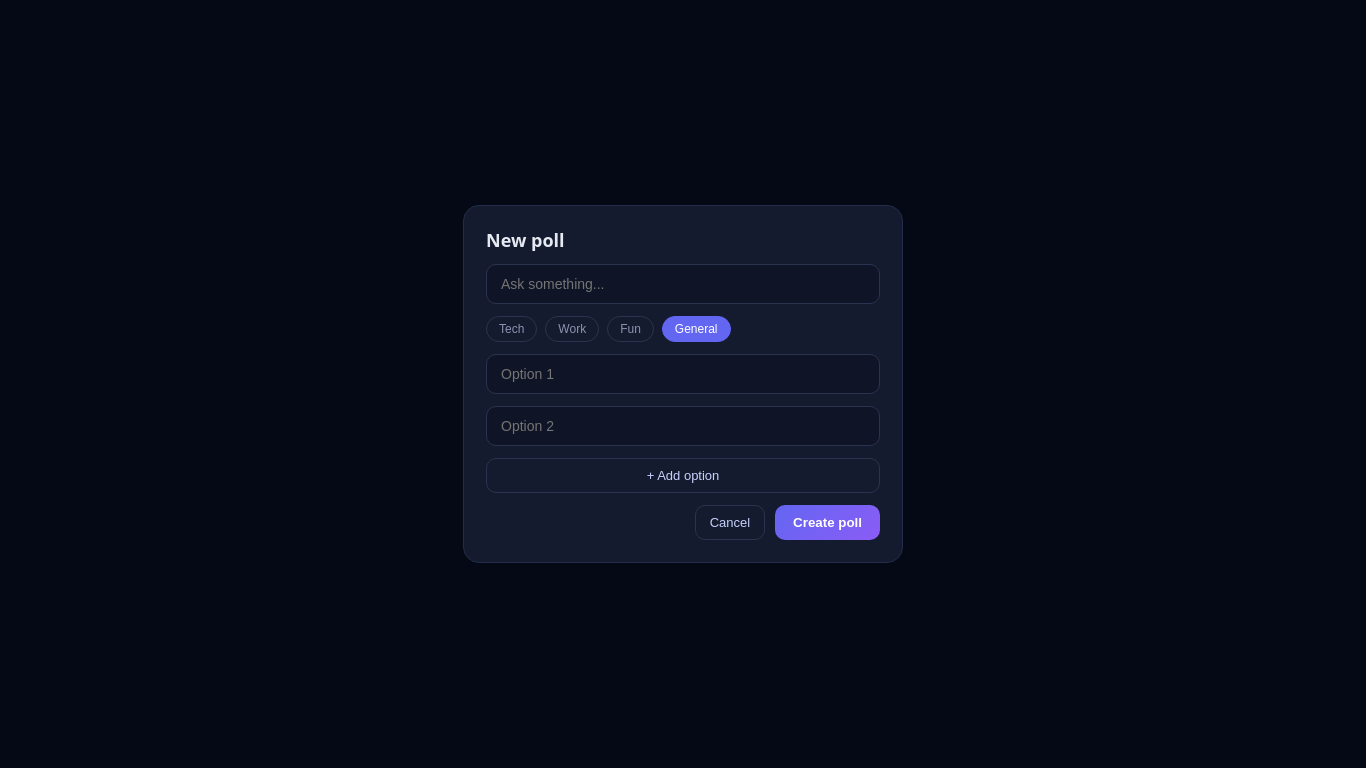
Test: CreatePoll › rejects fewer than 2 options
Type "Pick one" into the field with placeholder "Ask something..." at (683, 284), box x1=486 y1=264 x2=880 y2=304
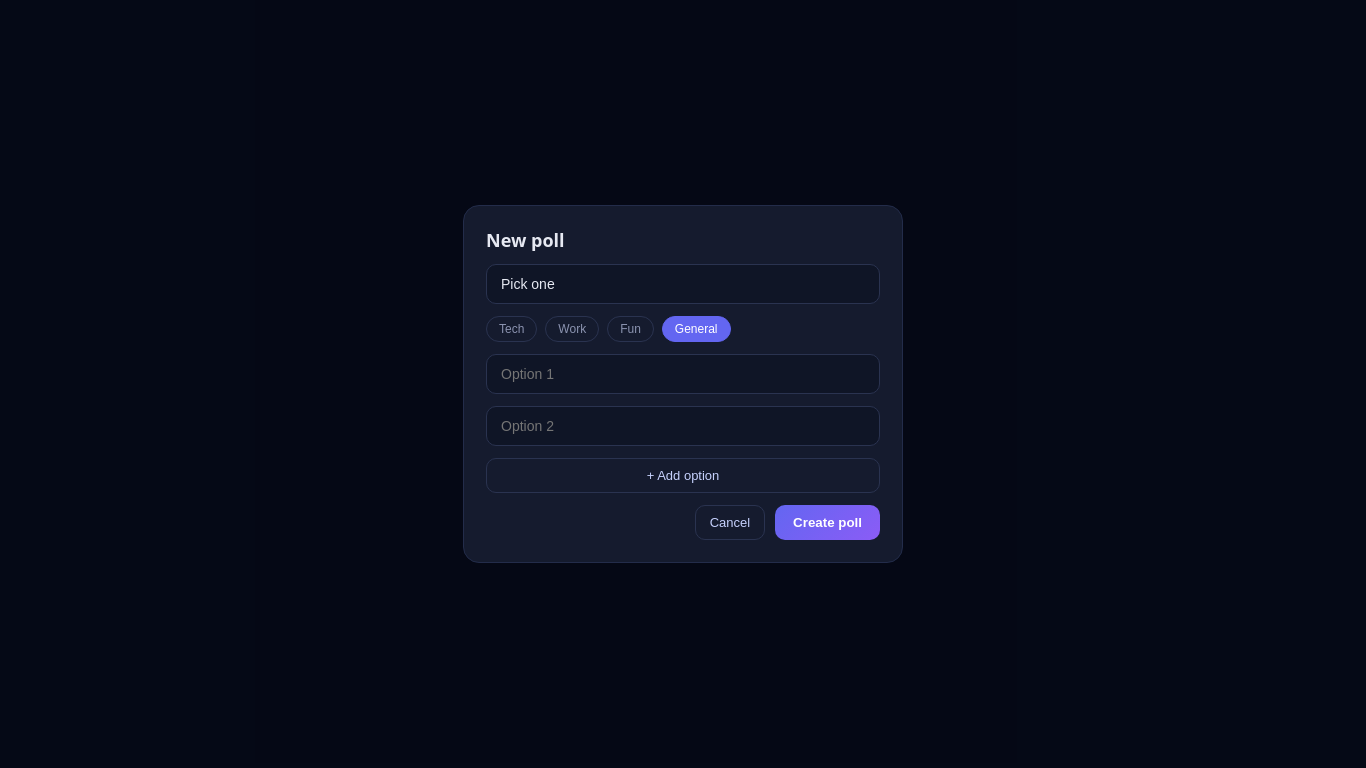
Type "Yes" into the field with placeholder "Option 1" at (683, 374), box x1=486 y1=354 x2=880 y2=394
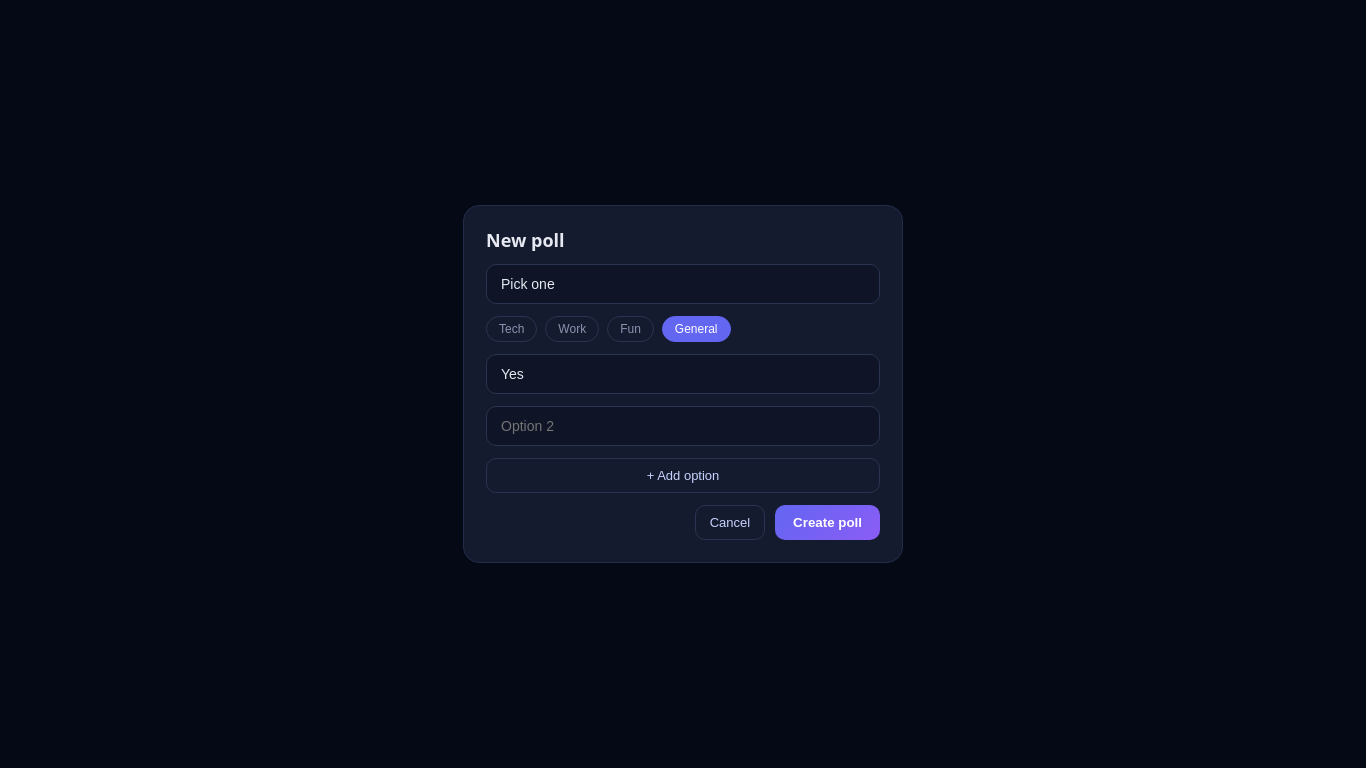
Click the button "Create poll" at (828, 522), box x1=775 y1=505 x2=880 y2=540
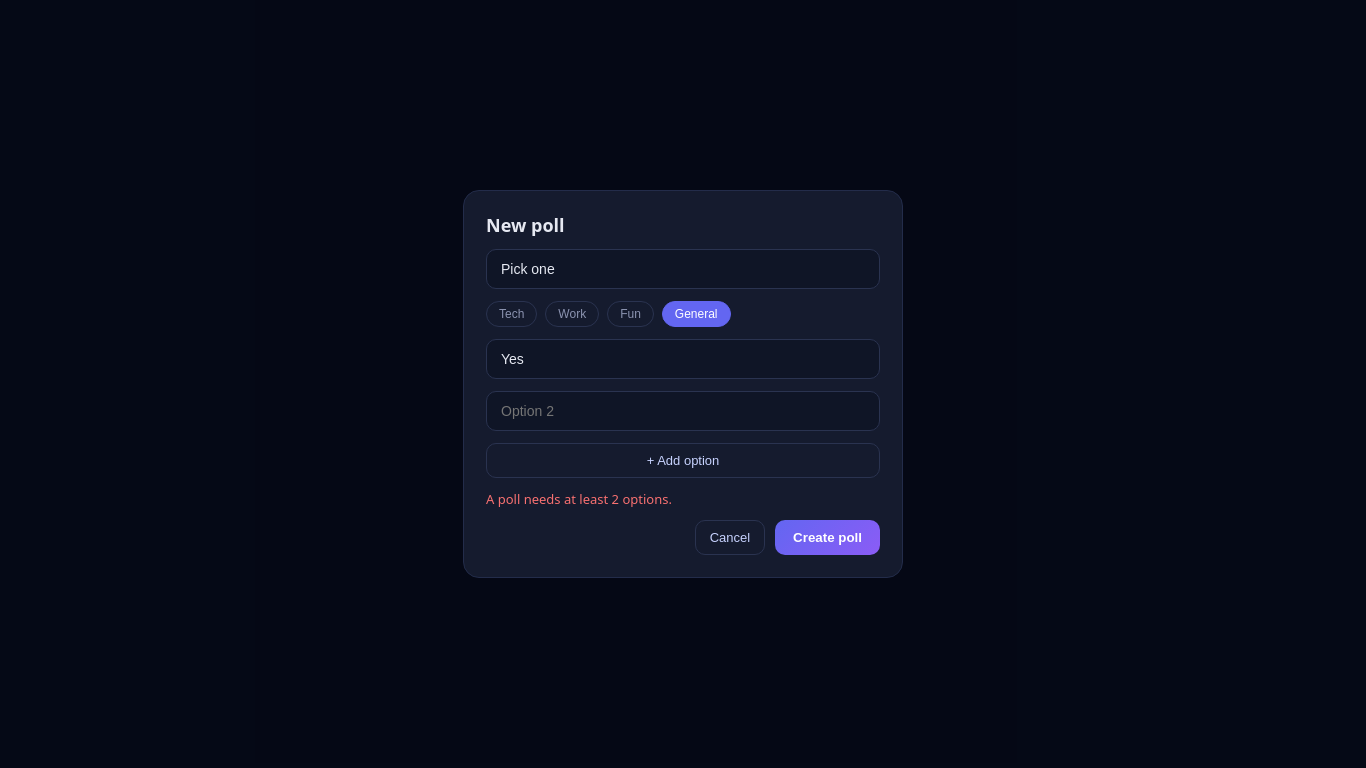
Expected: the text "A poll needs at least 2 options." is shown, x1=486 y1=490 x2=672 y2=508
